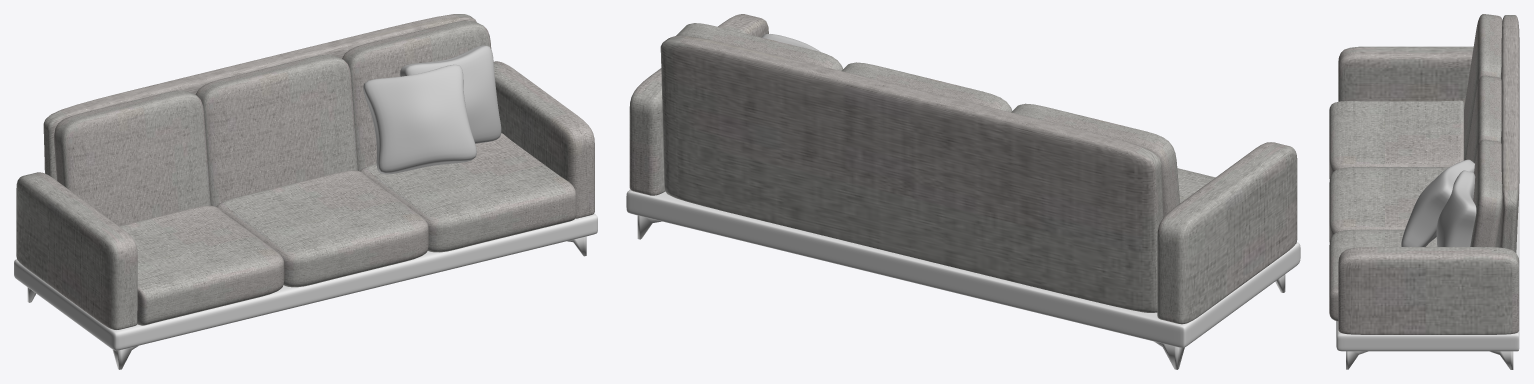
The model's file is sofa.fbx.
The picture shows the model from 3 angles, left to right: view 1: azimuth 30°, elevation 25°; view 2: azimuth 150°, elevation 25°; view 3: azimuth 270°, elevation 25°; orthographic projection. The views are drawn at different scales.
Parts seen in each view (by area): view 1: sofa cushions, Sofa back pillows, Sofa Armrest, Sofa seat, Sofa Pillow, Sofa (back), Sofa Pillow 2, Sofa Leg Pegs; view 2: Sofa (back), Sofa Armrest, Sofa seat, Sofa back pillows, Sofa Leg Pegs, sofa cushions; view 3: Sofa Armrest, sofa cushions, Sofa back pillows, Sofa (back), Sofa seat, Sofa Pillow, Sofa Pillow 2, Sofa Leg Pegs.
Boxes of the visible parts, x1,y1,x2,y2 form: sofa cushions: [119, 133, 576, 325]; Sofa back pillows: [54, 20, 491, 225]; Sofa Armrest: [16, 61, 594, 329]; Sofa seat: [14, 213, 597, 350]; Sofa Pillow: [363, 64, 476, 174]; Sofa (back): [43, 14, 476, 180]; Sofa Pillow 2: [400, 45, 501, 143]; Sofa Leg Pegs: [27, 236, 586, 369]; Sofa (back): [660, 36, 1163, 312]; Sofa Armrest: [629, 14, 1297, 324]; Sofa seat: [626, 189, 1300, 347]; Sofa back pillows: [676, 23, 1180, 217]; Sofa Leg Pegs: [637, 215, 1285, 369]; sofa cushions: [1177, 168, 1215, 202]; Sofa Armrest: [1338, 46, 1519, 334]; sofa cushions: [1329, 100, 1464, 321]; Sofa back pillows: [1464, 14, 1502, 247]; Sofa (back): [1496, 15, 1519, 252]; Sofa seat: [1336, 194, 1519, 351]; Sofa Pillow: [1401, 159, 1474, 246]; Sofa Pillow 2: [1436, 170, 1476, 246]; Sofa Leg Pegs: [1346, 351, 1513, 369].
Bounding box in the file's own units: 10.49 × 3.8 × 3.96.
